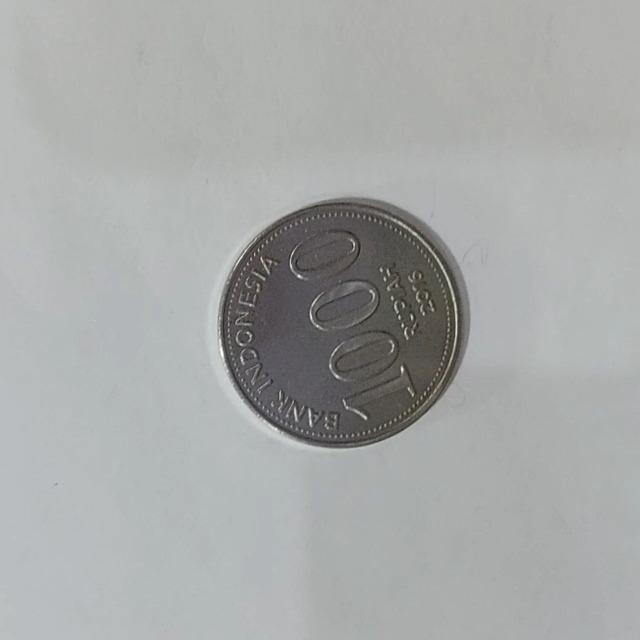Rp100: (216, 195, 470, 449)
